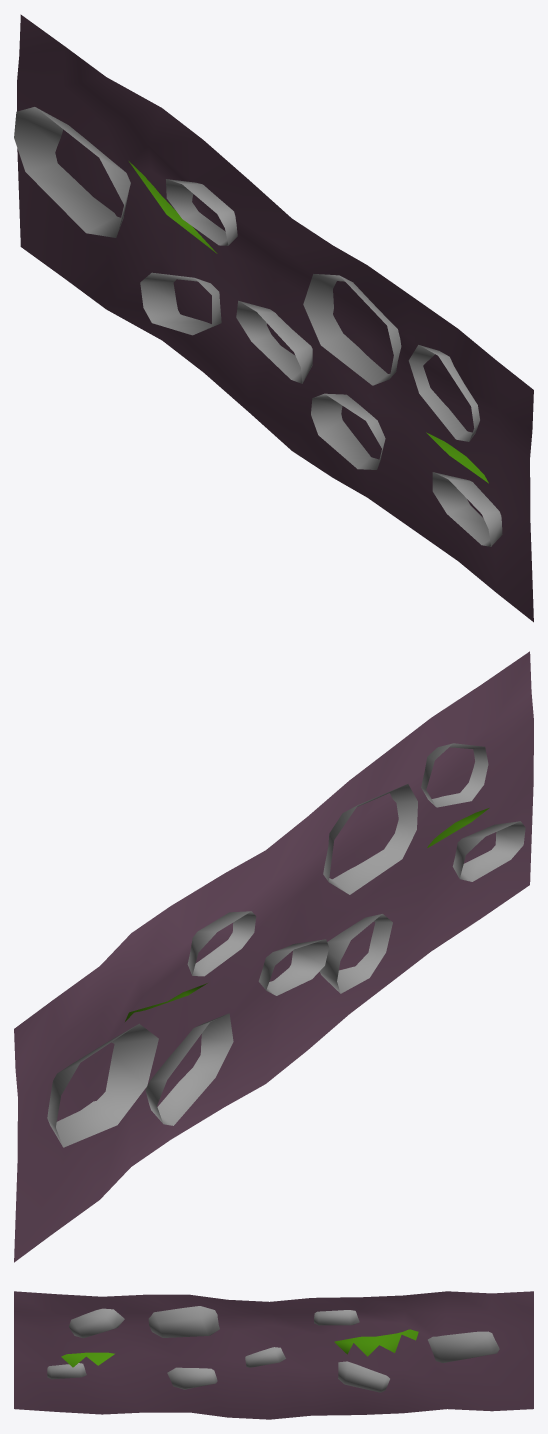
File: forest_ledge-side-x4.fbx
The picture shows the model from 3 angles, top to bottom: view 1: azimuth 30°, elevation 25°; view 2: azimuth 150°, elevation 25°; view 3: azimuth 270°, elevation 25°; orthographic projection. The views are drawn at different scales.
Visible parts, largest first — view 1: forest_ledge_01-x4-wall; view 2: forest_ledge_01-x4-wall; view 3: forest_ledge_01-x4-wall.
Boxes of the visible parts, x1,y1,x2,y2 form: forest_ledge_01-x4-wall: (14, 14, 533, 622); forest_ledge_01-x4-wall: (14, 651, 533, 1262); forest_ledge_01-x4-wall: (14, 1291, 533, 1419).
Size of the model in its own units: 23.81 by 107 by 400.
